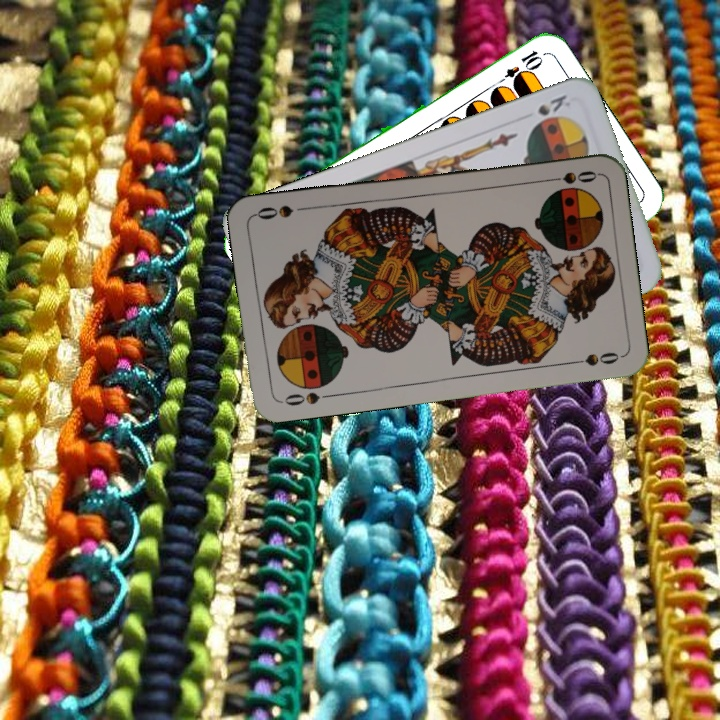E10: (491, 46, 545, 90)
SK: (533, 90, 573, 119)
SO: (540, 166, 599, 187), (276, 388, 335, 409)
